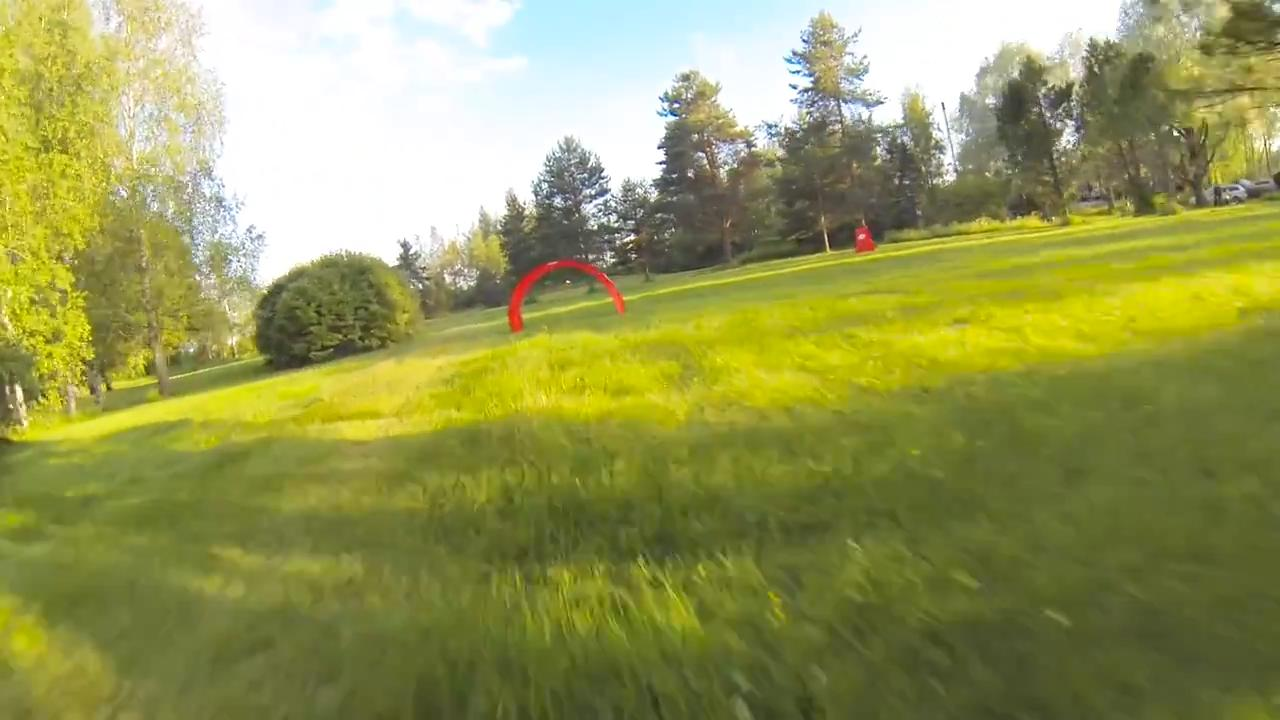gate: (506, 259, 630, 333)
